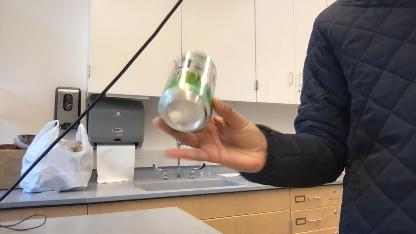Can: (158, 50, 220, 134)
